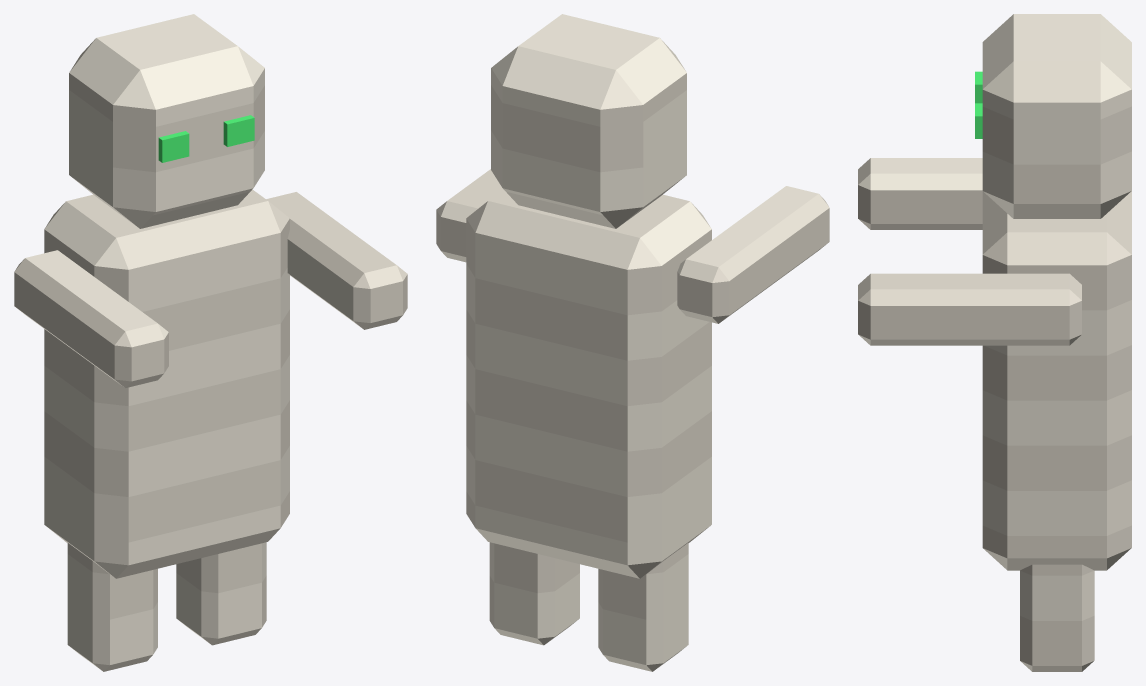
The model's file is Mummy.fbx.
The picture shows the model from 3 angles, left to right: view 1: azimuth 30°, elevation 25°; view 2: azimuth 150°, elevation 25°; view 3: azimuth 270°, elevation 25°; orthographic projection.
Parts seen in each view (by area): view 1: Mummy; view 2: Mummy; view 3: Mummy.
Boxes of the visible parts, x1,y1,x2,y2 form: Mummy: [14, 14, 407, 671]; Mummy: [436, 14, 829, 671]; Mummy: [858, 14, 1131, 671].
Size of the model in its own units: 2.7 by 5.3 by 2.2.
Materials: 1 (1 with a texture image).
